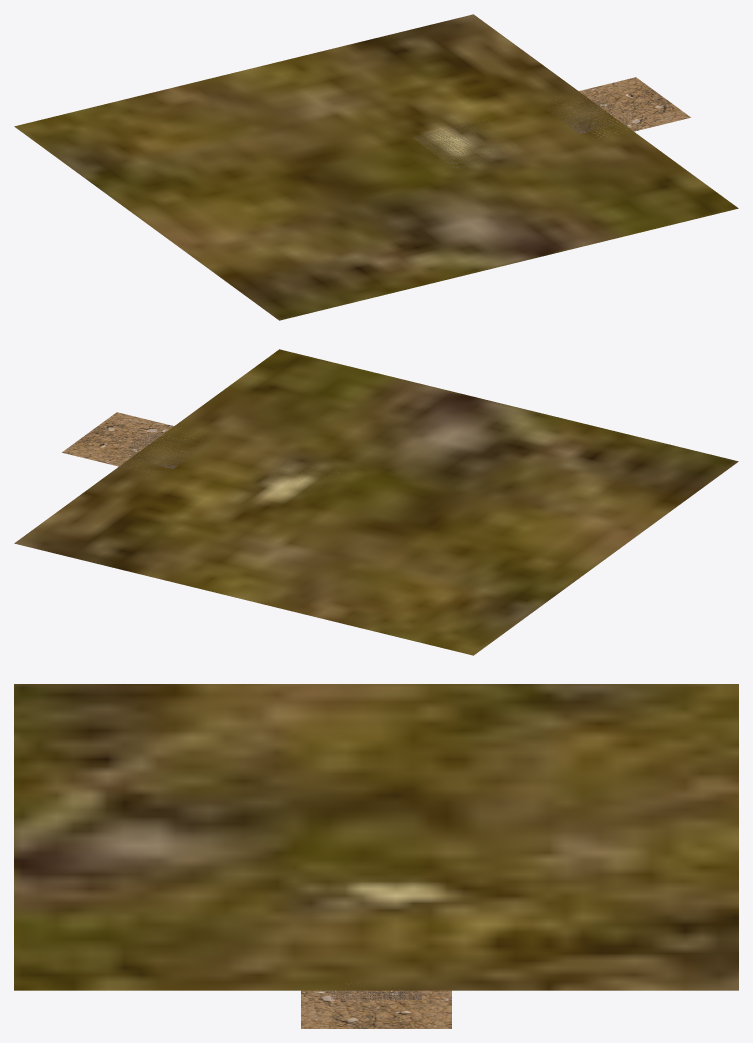
File: ground.glb
3 views of the same model, one above another, from view 1: azimuth 30°, elevation 25°; view 2: azimuth 150°, elevation 25°; view 3: azimuth 270°, elevation 25° (orthographic). The views are drawn at different scales.
Parts seen in each view (by area): view 1: ground_rock, ground_dry, ground_grass, ground_riverbed; view 2: ground_rock, ground_dry, ground_riverbed; view 3: ground_rock, ground_dry, ground_riverbed.
Boxes of the visible parts, x1,y1,x2,y2 form: ground_rock: (14, 14, 738, 320); ground_dry: (555, 77, 690, 139); ground_grass: (413, 119, 528, 168); ground_riverbed: (549, 96, 629, 133); ground_rock: (14, 349, 738, 655); ground_dry: (62, 412, 201, 471); ground_riverbed: (118, 432, 202, 468); ground_rock: (14, 684, 738, 990); ground_dry: (301, 984, 451, 1028); ground_riverbed: (331, 984, 421, 999).
Bounding box in the file's own units: 54 × 0 × 48.
4 materials, 4 textured.
